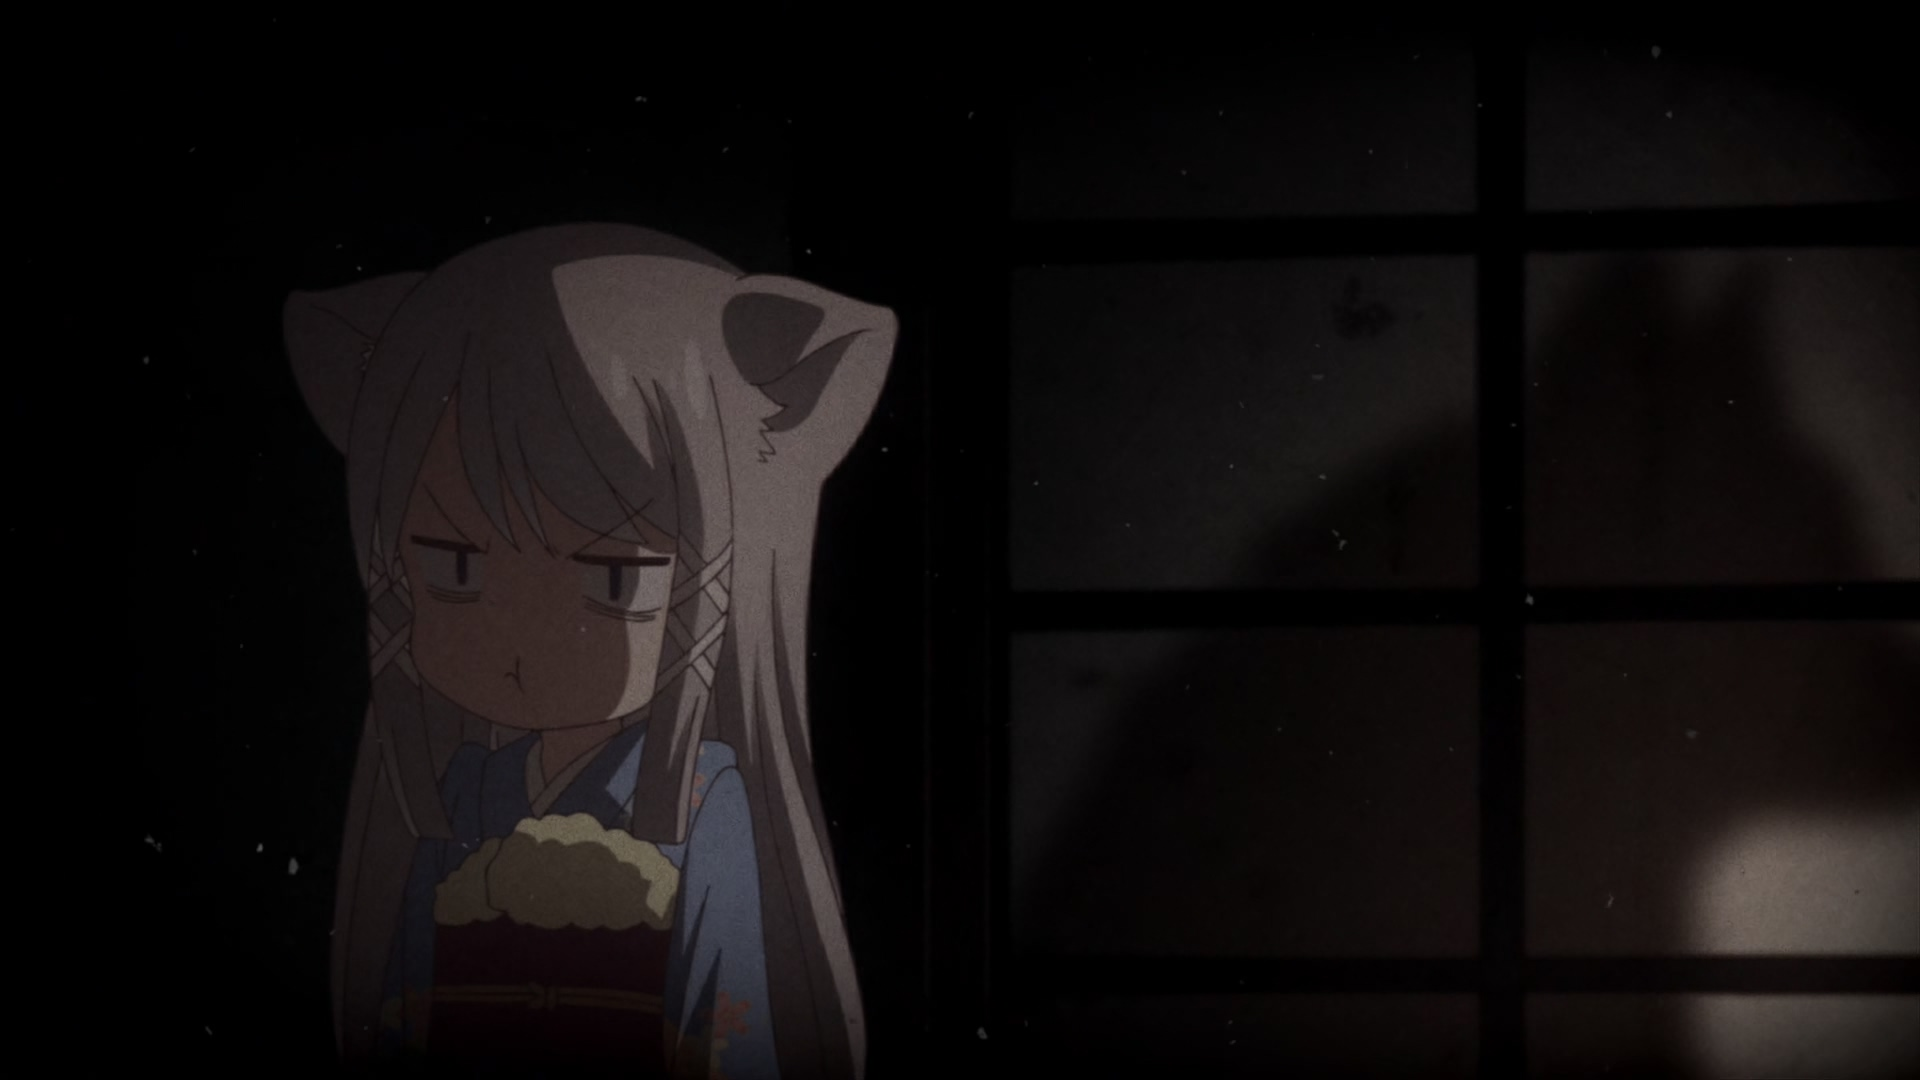柊: (284, 228, 898, 1080)
